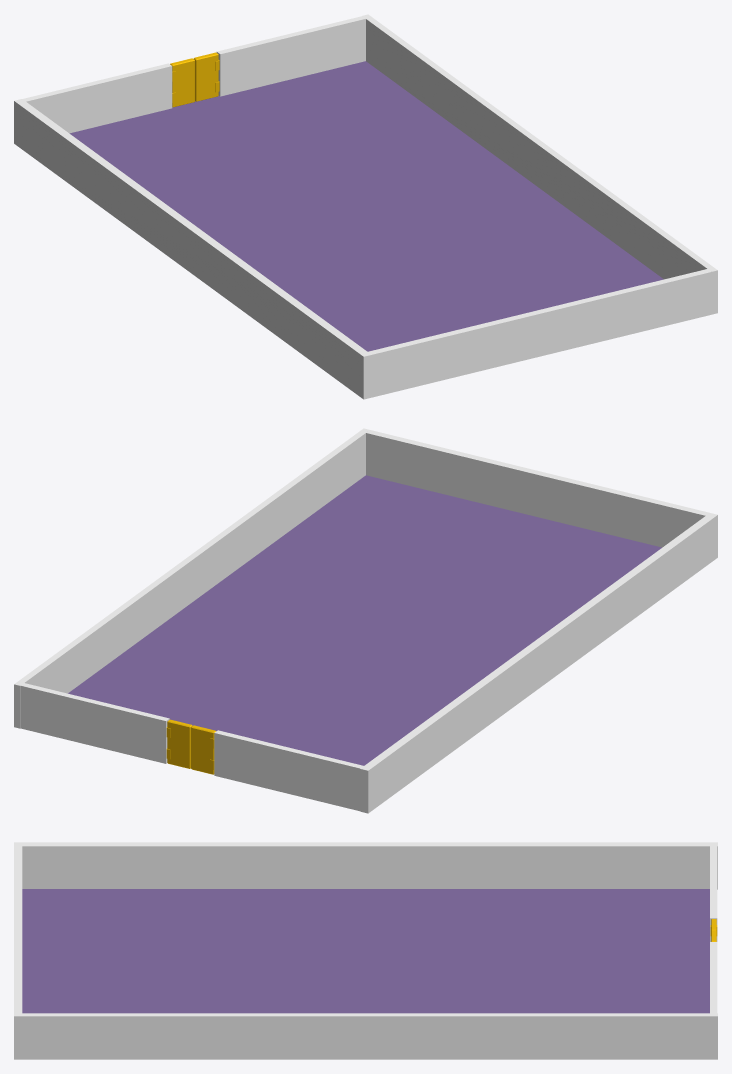
The model's file is maps_98.fbx.
3 renders of one model, top to bottom at view 1: azimuth 30°, elevation 25°; view 2: azimuth 150°, elevation 25°; view 3: azimuth 270°, elevation 25°, orthographic.
Visible parts, largest first — view 1: wall_01_08_geo, wall_01_07_geo, wall_01_06_geo, wall_01_05_geo, wall_01_09_geo1, wall_01_09_geo, polySurface161, polySurface165; view 2: wall_01_08_geo, wall_01_07_geo, wall_01_06_geo, wall_01_05_geo, wall_01_09_geo1, wall_01_09_geo, polySurface161, polySurface165; view 3: wall_01_08_geo, wall_01_06_geo, wall_01_07_geo, wall_01_05_geo, wall_01_09_geo, wall_01_09_geo1.
Part boxes in pixels (x1,y1,x2,y2): wall_01_08_geo: (69,61,663,351); wall_01_07_geo: (14,99,371,399); wall_01_06_geo: (362,14,717,314); wall_01_05_geo: (368,269,711,397); wall_01_09_geo1: (216,16,365,96); wall_01_09_geo: (22,63,172,133); polySurface161: (193,52,219,101); polySurface165: (170,58,194,107); wall_01_08_geo: (68,475,661,765); wall_01_07_geo: (360,513,717,813); wall_01_06_geo: (14,428,369,728); wall_01_05_geo: (366,430,709,547); wall_01_09_geo1: (20,683,169,763); wall_01_09_geo: (214,730,363,811); polySurface161: (166,719,192,768); polySurface165: (191,725,215,774); wall_01_08_geo: (22,889,709,1013); wall_01_06_geo: (14,1013,717,1059); wall_01_07_geo: (14,842,717,889); wall_01_05_geo: (14,846,22,1013); wall_01_09_geo: (710,846,717,941); wall_01_09_geo1: (710,942,717,1013).
Bounding box in the file's own units: 76.85 × 8.89 × 131.
2 materials, 2 textured.
